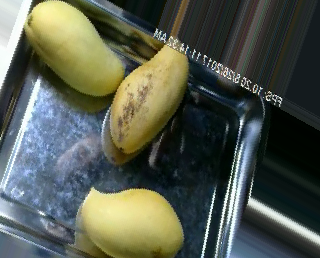Mango: (22, 0, 124, 96), (111, 31, 188, 156), (83, 185, 185, 257)
